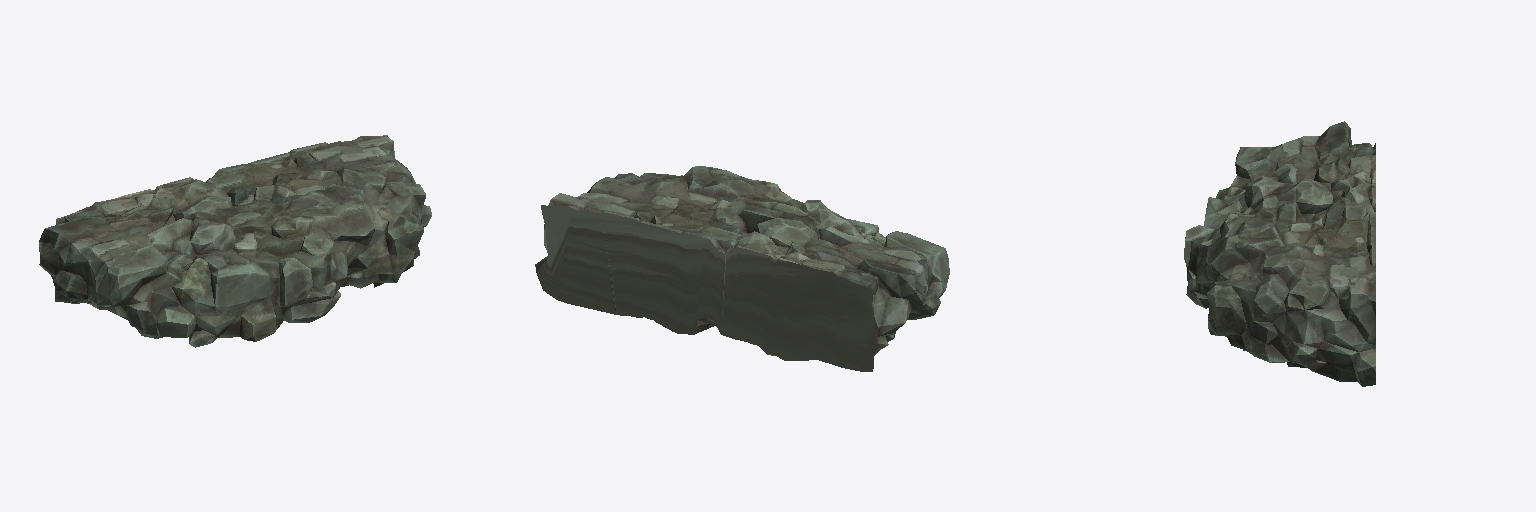
The picture shows the model from 3 angles: view 1: azimuth 30°, elevation 25°; view 2: azimuth 150°, elevation 25°; view 3: azimuth 270°, elevation 25°; orthographic projection.
Visible parts, largest first — view 1: Dn_HL_RuinsWall_B_Top_A; view 2: Dn_HL_RuinsWall_B_Top_A; view 3: Dn_HL_RuinsWall_B_Top_A.
Part boxes in pixels (left/top/right/bottom): Dn_HL_RuinsWall_B_Top_A: left=39, top=135, right=431, bottom=347; Dn_HL_RuinsWall_B_Top_A: left=535, top=166, right=949, bottom=371; Dn_HL_RuinsWall_B_Top_A: left=1184, top=121, right=1375, bottom=386.
Bounding box in the file's own units: 11.14 × 3.28 × 4.99.
Materials: 1 (1 with a texture image).